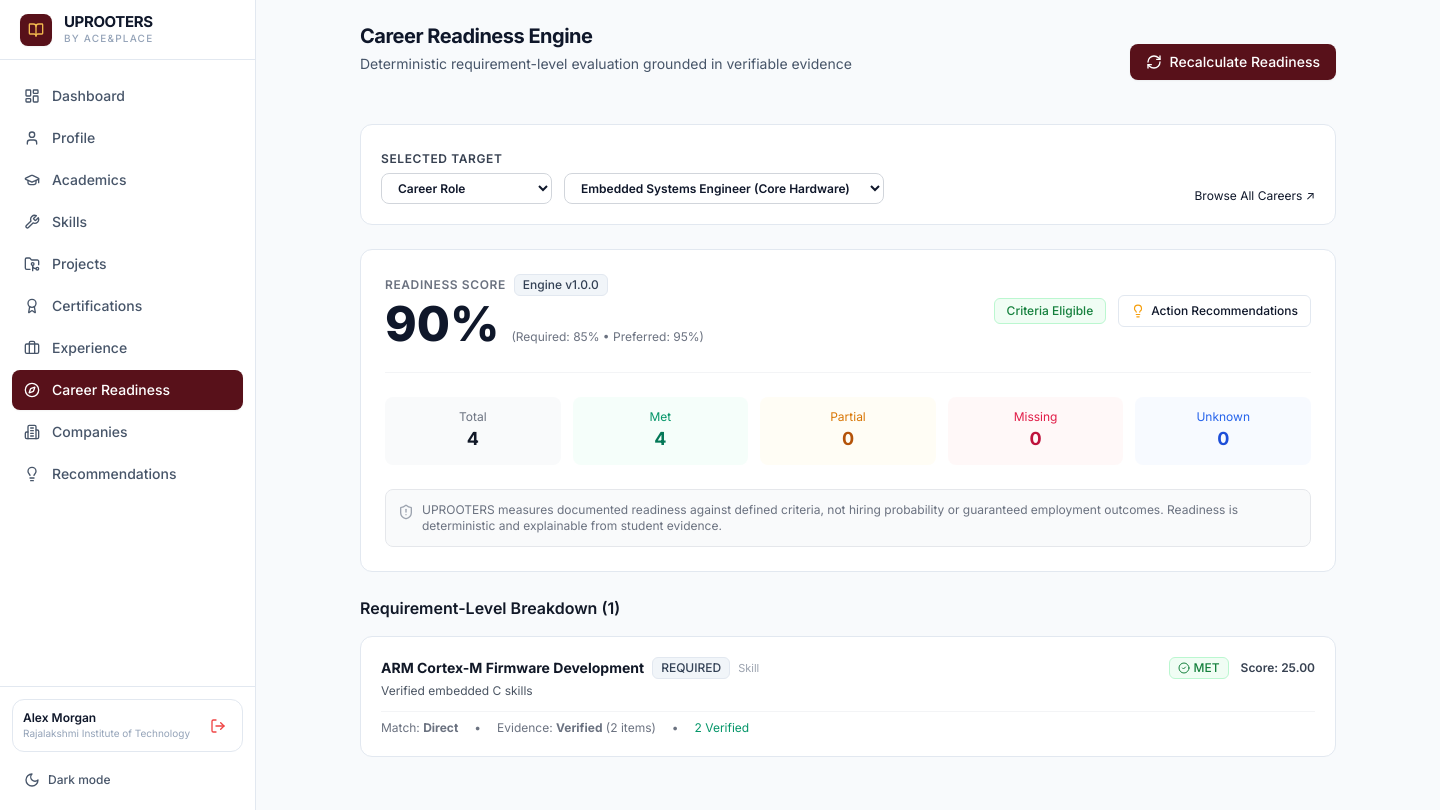
Test: Milestone 11 — Student Application & UI Flow Verification › 9. Readiness Engine UI Flow (/app/readiness) › switches from a career role to a job opening cleanly
The width and height of the screenshot is (1440, 810).
Expected: the text "90%" is shown, [385,300,499,348]
Expected: the heading "ARM Cortex-M Firmware Development" is shown, [381,658,644,678]
Select "Specific Job Opening" in the dropdown with test id "target-type-select" at [466, 188], box [381,173,552,204]
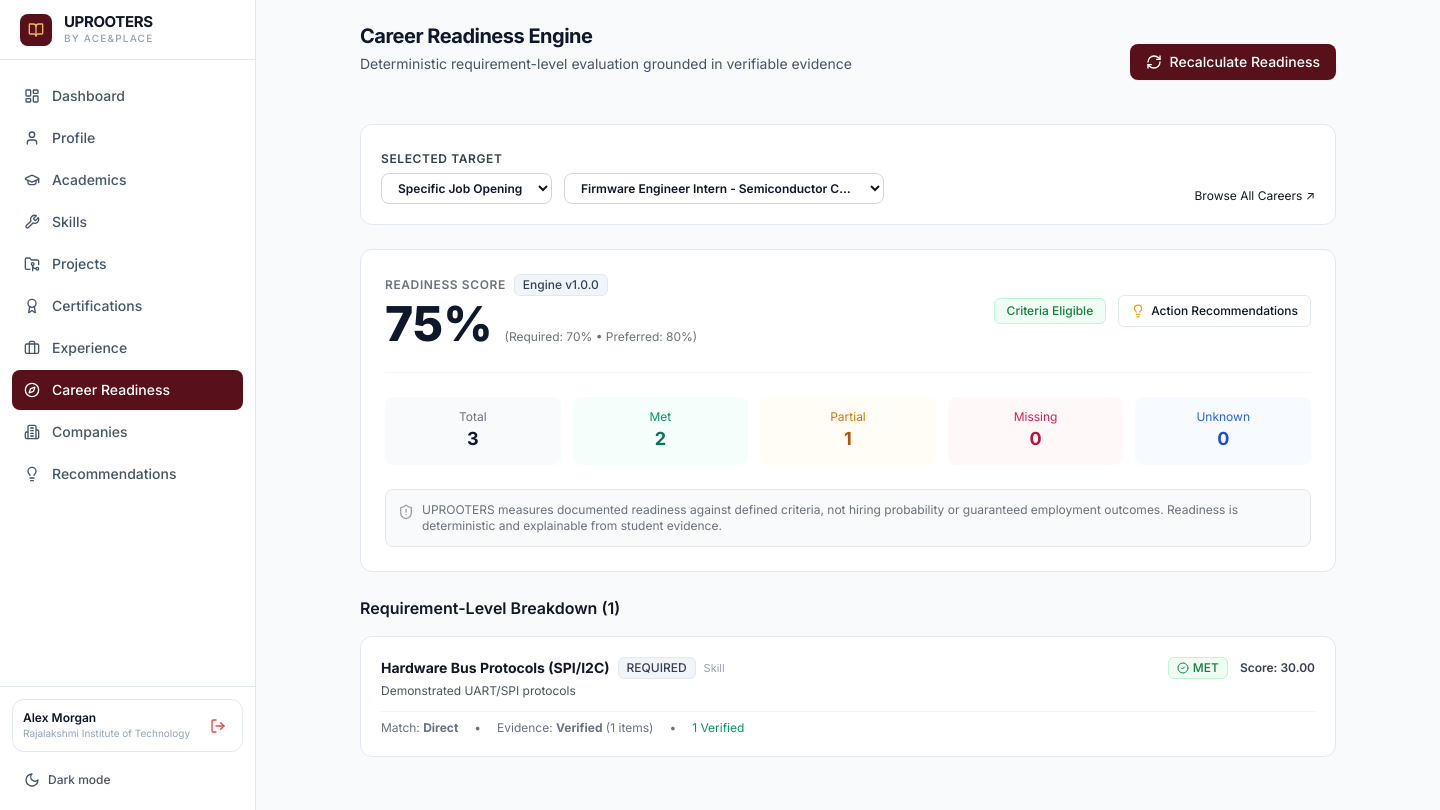
Result: the text "75%" is shown at [385,300,493,348]
Result: the heading "Hardware Bus Protocols (SPI/I2C)" is shown at [381,658,610,678]
Result: the text "90%" is gone
